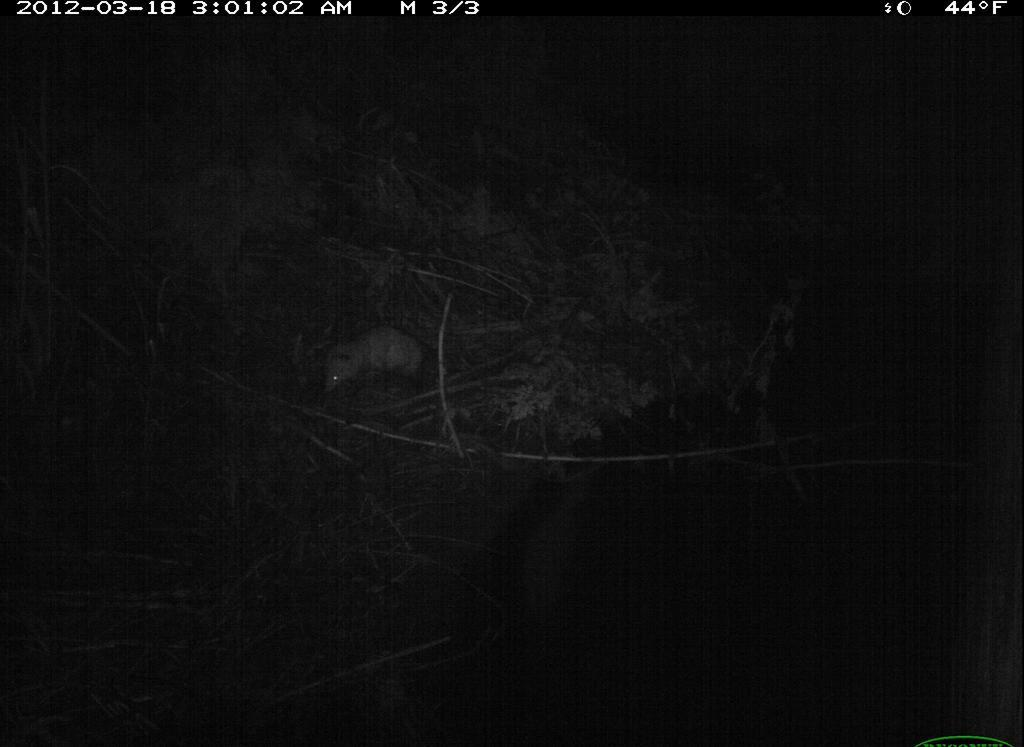opossum: (318, 327, 466, 408)
